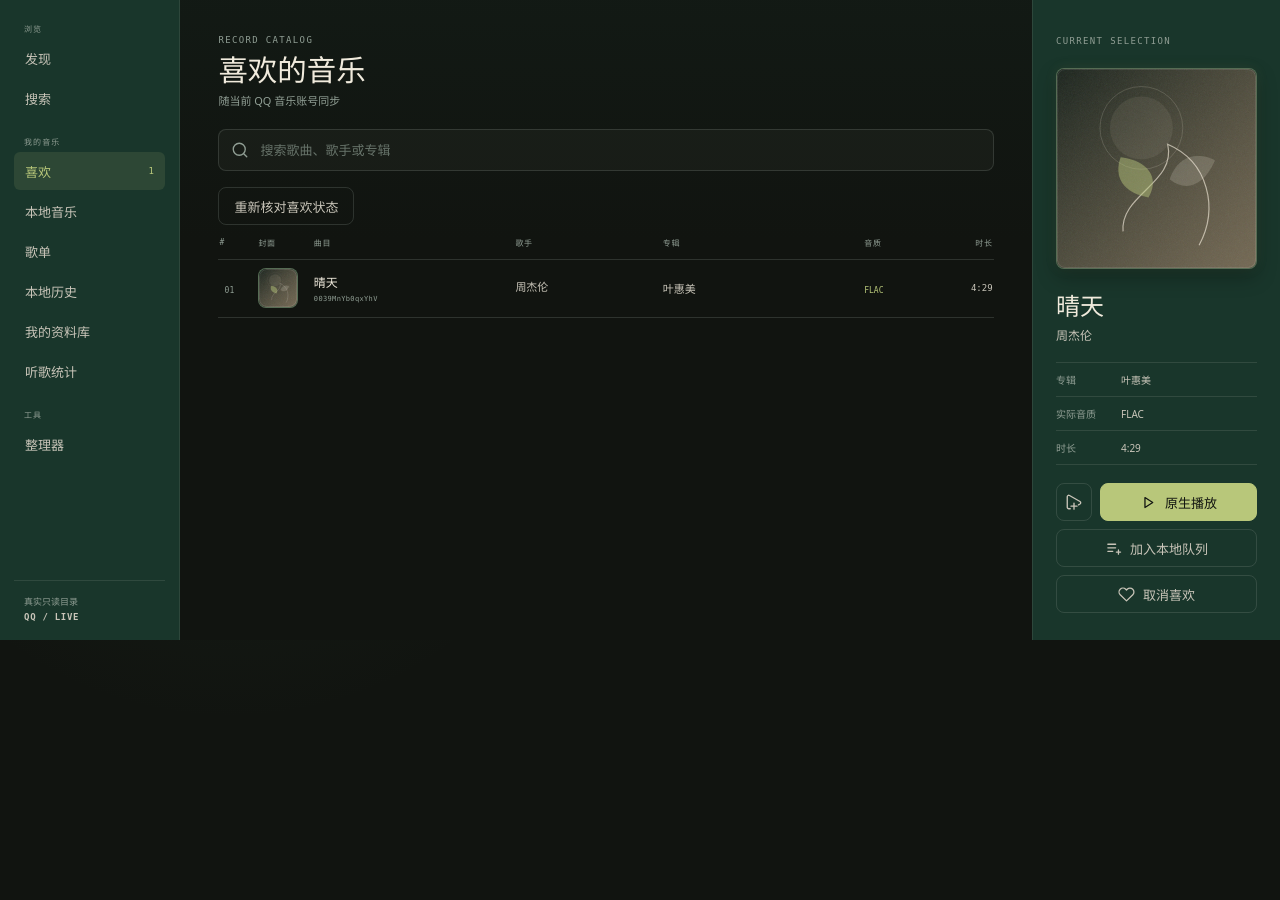
Test case: live catalog workspace › 桌面喜欢页取消喜欢后读回列表，提交失败不自动重放
This screenshot has width=1280, height=900.
Click the button "取消喜欢" at (1156, 594), box [1056,575,1257,613]
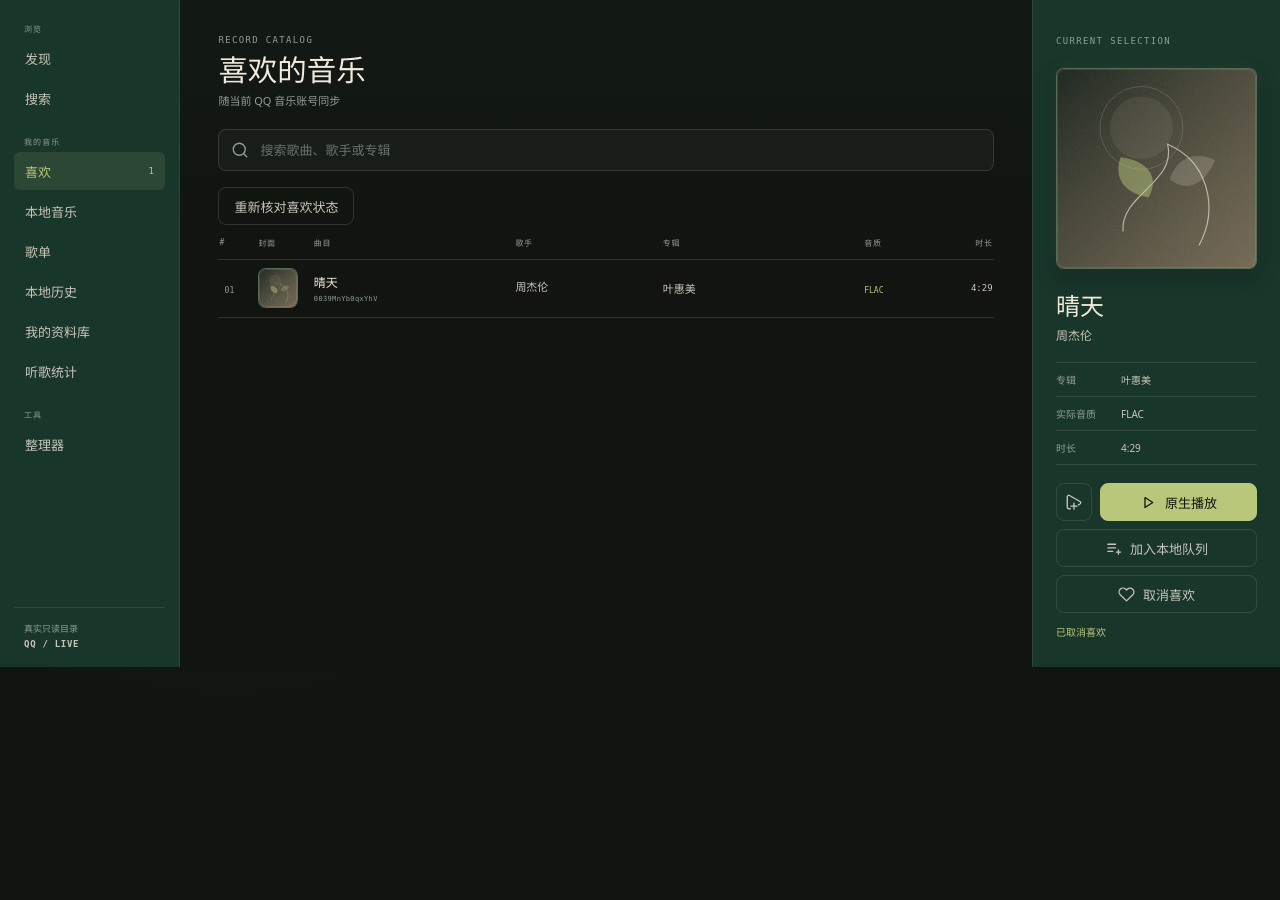
Click the button "取消喜欢" at (1156, 594), box [1056,575,1257,613]
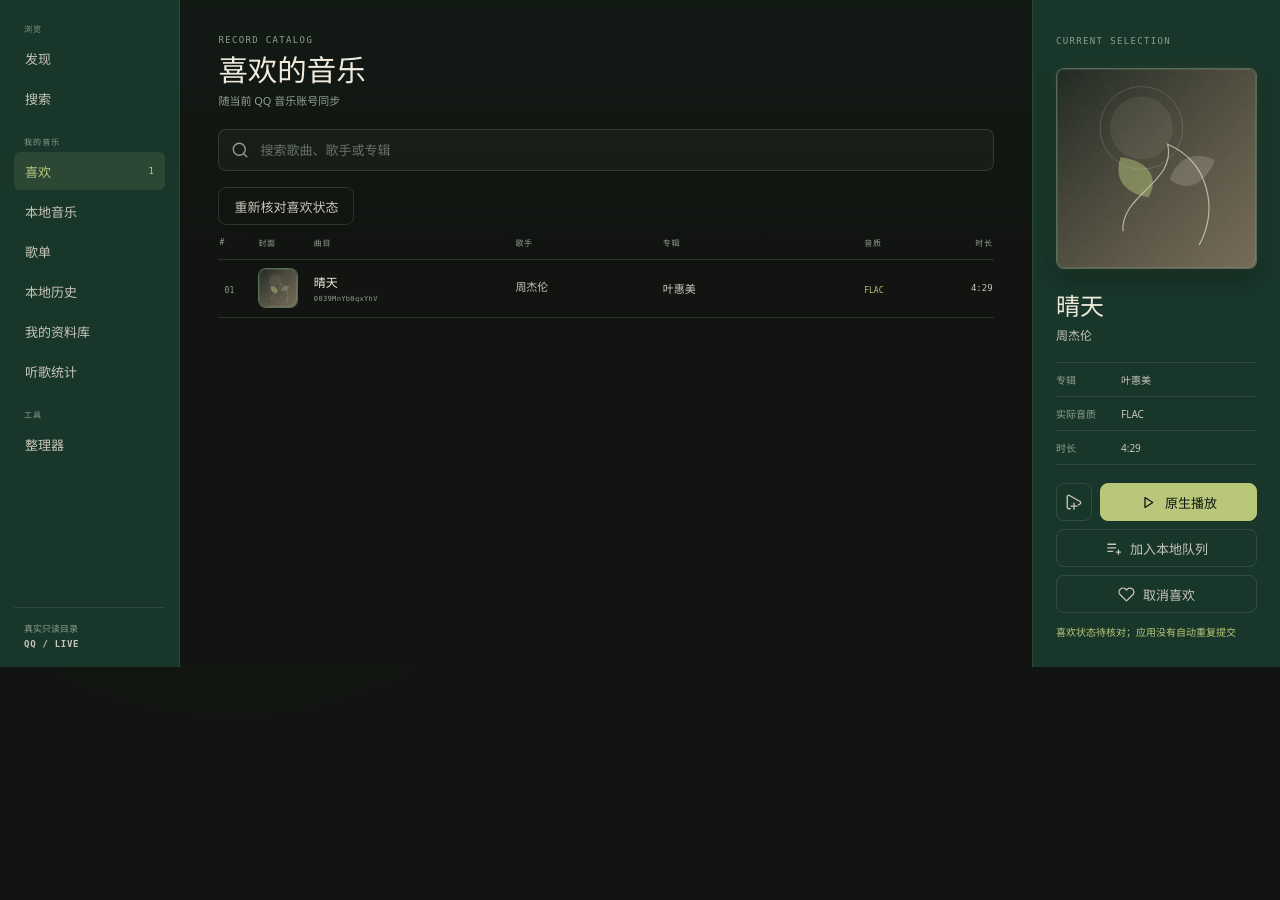
Now the text "喜欢状态待核对；应用没有自动重复提交" is shown, box [1056,625,1257,640]
